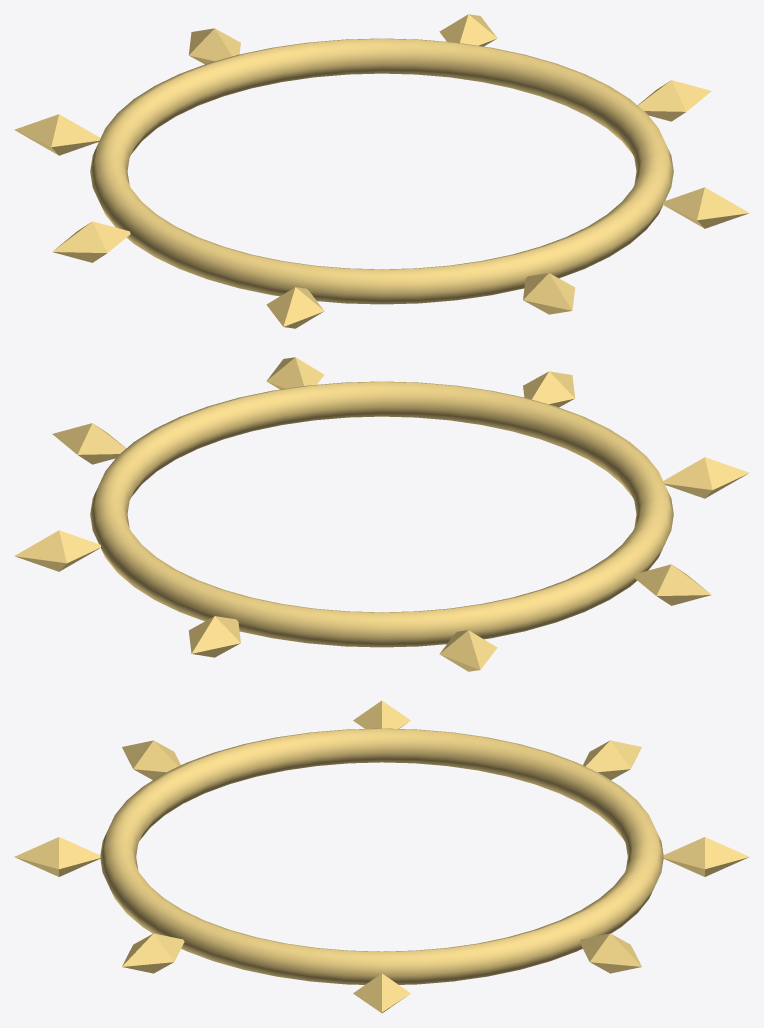
Rendered from halo.glb.
The picture shows the model from 3 angles, top to bottom: view 1: azimuth 30°, elevation 25°; view 2: azimuth 150°, elevation 25°; view 3: azimuth 270°, elevation 25°; orthographic projection. The views are drawn at different scales.
Parts seen in each view (by area): view 1: Petal halo; view 2: Petal halo; view 3: Petal halo.
Part boxes in pixels (x1=…): Petal halo: x1=14, y1=14, x2=749, y2=328; Petal halo: x1=14, y1=357, x2=749, y2=671; Petal halo: x1=14, y1=700, x2=749, y2=1013.
Size of the model in its own units: 10.6 by 0.64 by 10.6.
